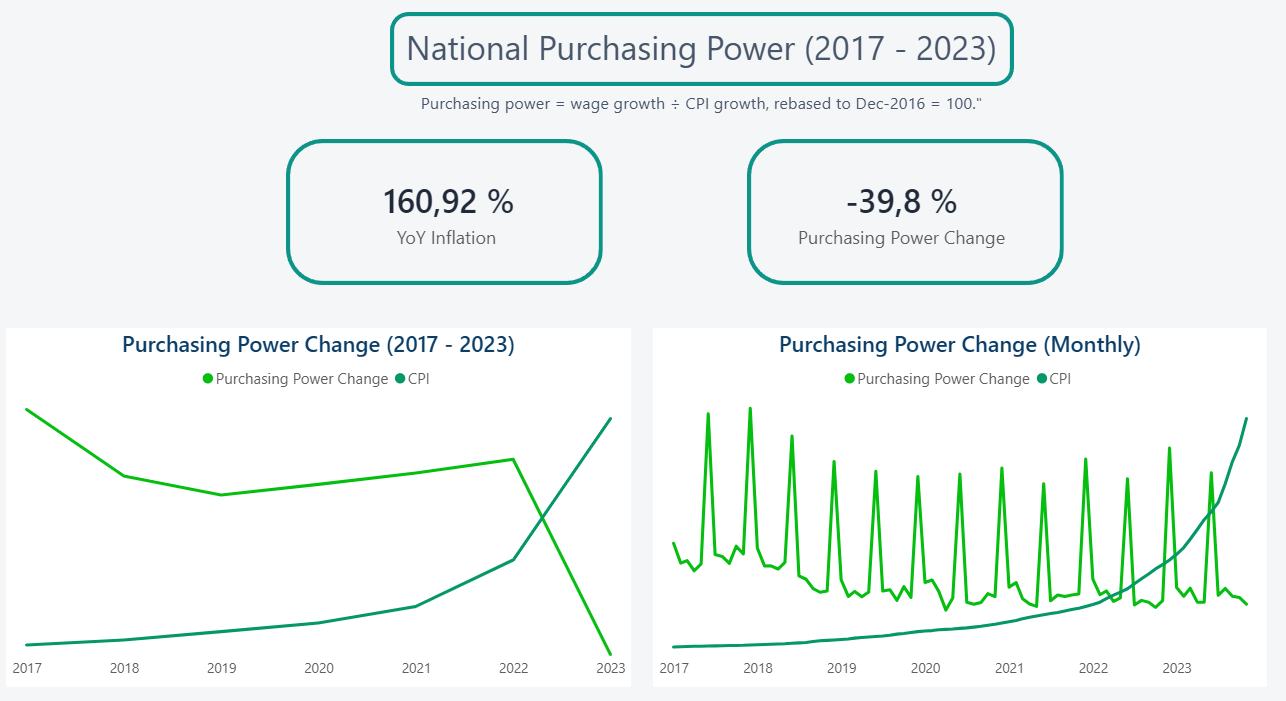

Layout of this report page (visuals, bound fields, positions):
{"tool":"powerbi","page":{"name":"National Wage vs. Inflation","canvas":[1280,720],"ordinal":1},"visuals":[{"type":"lineChart","title":"Purchasing Power Change (2017 - 2023)","fields":{"Y":["_Medidas.Poder Adquisitivo Acumulado %"],"Y2":["_Medidas.Índice IPC"],"Category":["dim_fecha.año_mes.Variation.Date Hierarchy.Year"]},"box":[17.5,334.6,607.9,349.2],"z":0},{"type":"card","fields":{"Values":["_Medidas.Poder Adquisitivo Acumulado %"]},"box":[738.2,150.8,300.5,142],"z":1000},{"type":"card","fields":{"Values":["_Medidas.Inflación Interanual %"]},"box":[298.6,150.8,299.6,142],"z":2000},{"type":"textbox","box":[349.2,34,689.6,65.2],"z":3000},{"type":"textbox","box":[388.1,99.2,611.8,39.9],"z":4000},{"type":"lineChart","title":"Purchasing Power Change (Monthly)","fields":{"Y":["_Medidas.Poder Adquisitivo Acumulado %"],"Y2":["_Medidas.Índice IPC"],"Category":["dim_fecha.año_mes.Variation.Date Hierarchy.Year","dim_fecha.año_mes.Variation.Date Hierarchy.Month"]},"box":[646.8,334.6,597.2,349.2],"z":5000},{"type":"shape","box":[289.8,150.8,308.3,142],"z":6000},{"type":"shape","box":[738.2,150.8,308.3,142],"z":7000},{"type":"shape","box":[391,27.2,606.9,72],"z":8000}]}

Visuals, with their boxes on the page's 1280x720 design canvas (x1, y1, x2, y2). These are canvas units, not pixel positions in the 1286x701 screenshot, which may show the page scaled, cropped or inside an application window:
"Purchasing Power Change (2017 - 2023)" lineChart: (x1=18, y1=335, x2=625, y2=684)
card - _Medidas.Poder Adquisitivo Acumulado %: (x1=738, y1=151, x2=1039, y2=293)
card - _Medidas.Inflación Interanual %: (x1=299, y1=151, x2=598, y2=293)
textbox: (x1=349, y1=34, x2=1039, y2=99)
textbox: (x1=388, y1=99, x2=1000, y2=139)
"Purchasing Power Change (Monthly)" lineChart: (x1=647, y1=335, x2=1244, y2=684)
shape: (x1=290, y1=151, x2=598, y2=293)
shape: (x1=738, y1=151, x2=1046, y2=293)
shape: (x1=391, y1=27, x2=998, y2=99)
